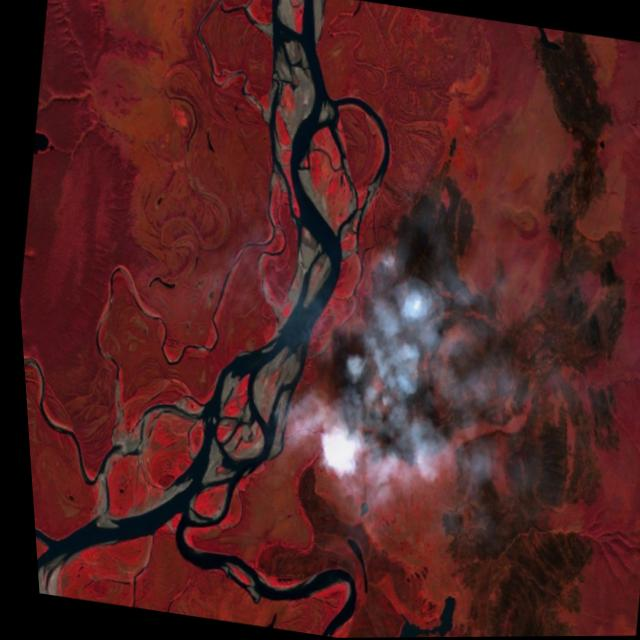fire: (299, 335, 435, 488)
